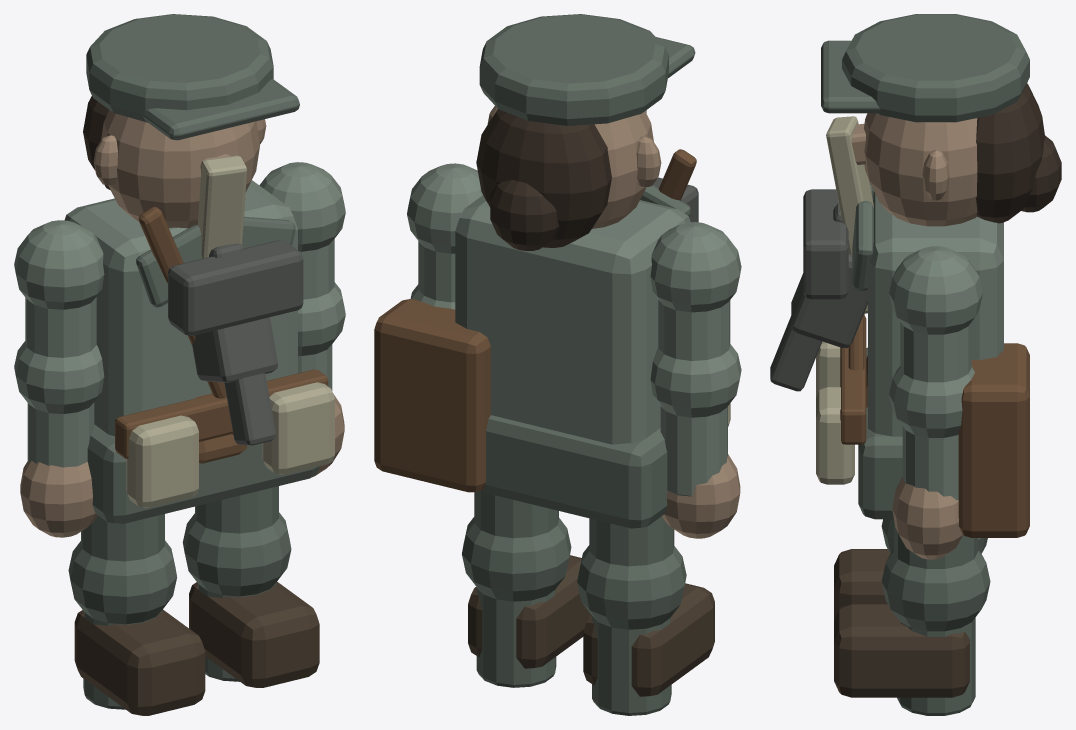
File: Model_OperativeScout.glb
3 renders of one model, left to right at view 1: azimuth 30°, elevation 25°; view 2: azimuth 150°, elevation 25°; view 3: azimuth 270°, elevation 25°, orthographic.
Visible parts, largest first — view 1: Asset_OperativeScout_BodyMesh, Arm_L_Mesh, Leg_L_Mesh, Leg_R_Mesh, Arm_R_Mesh; view 2: Asset_OperativeScout_BodyMesh, Arm_L_Mesh, Leg_L_Mesh, Leg_R_Mesh, Arm_R_Mesh; view 3: Asset_OperativeScout_BodyMesh, Arm_R_Mesh, Leg_R_Mesh, Leg_L_Mesh.
Boxes of the visible parts, <box> form: Asset_OperativeScout_BodyMesh: <box>64,14,334,523</box>; Arm_L_Mesh: <box>14,220,104,537</box>; Leg_L_Mesh: <box>68,514,205,715</box>; Leg_R_Mesh: <box>182,486,319,687</box>; Arm_R_Mesh: <box>259,162,345,477</box>; Asset_OperativeScout_BodyMesh: <box>374,14,730,528</box>; Arm_L_Mesh: <box>650,222,741,538</box>; Leg_L_Mesh: <box>577,516,714,715</box>; Leg_R_Mesh: <box>462,491,591,687</box>; Arm_R_Mesh: <box>407,163,482,309</box>; Asset_OperativeScout_BodyMesh: <box>770,14,1061,537</box>; Arm_R_Mesh: <box>889,246,982,559</box>; Leg_R_Mesh: <box>834,520,990,715</box>; Leg_L_Mesh: <box>834,519,987,619</box>.
Bounding box in the file's own units: 1.12 × 2.13 × 0.8987.
